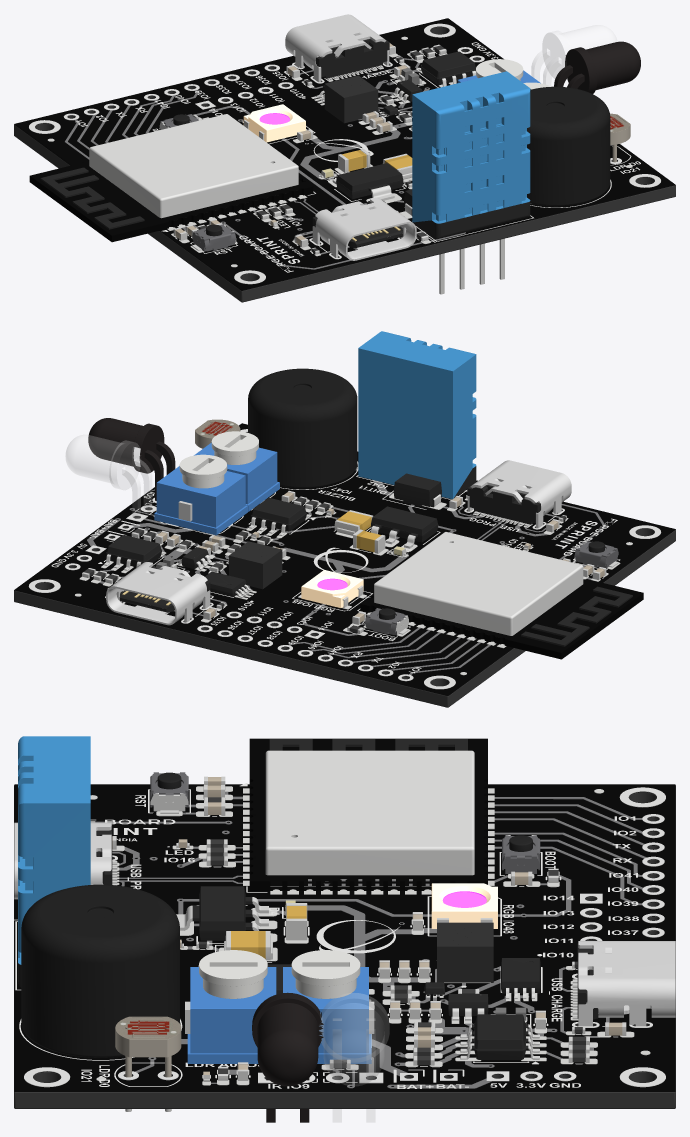
File: sprint.glb
The picture shows the model from 3 angles, top to bottom: view 1: azimuth 30°, elevation 25°; view 2: azimuth 150°, elevation 25°; view 3: azimuth 270°, elevation 25°; orthographic projection. The views are drawn at different scales.
Parts seen in each view (by area): view 1: ForgeBoard_Sprint; view 2: ForgeBoard_Sprint; view 3: ForgeBoard_Sprint.
Part boxes in pixels (x1,y1,x2,y2): ForgeBoard_Sprint: (14,14,675,302); ForgeBoard_Sprint: (14,331,675,707); ForgeBoard_Sprint: (14,736,675,1122).
Bounding box in the file's own units: 0.0681 × 0.0235 × 0.05.
33 materials, 1 textured.
